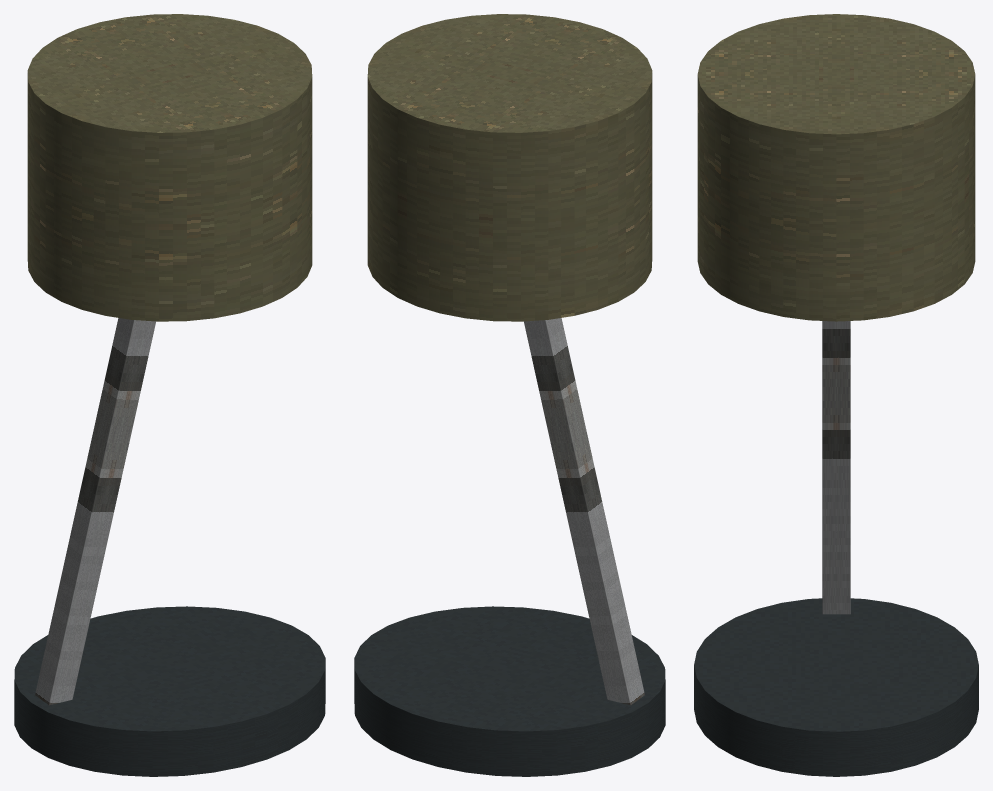
File: dutylamp.glb
3 renders of one model, left to right at view 1: azimuth 30°, elevation 25°; view 2: azimuth 150°, elevation 25°; view 3: azimuth 270°, elevation 25°, orthographic.
Parts seen in each view (by area): view 1: shade, foot, arm; view 2: shade, foot, arm; view 3: shade, foot, arm.
Part boxes in pixels (x1=…): shade: x1=27, y1=14, x2=312, y2=321; foot: x1=14, y1=606, x2=325, y2=776; arm: x1=35, y1=318, x2=155, y2=705; shade: x1=367, y1=14, x2=652, y2=321; foot: x1=354, y1=606, x2=665, y2=776; arm: x1=524, y1=318, x2=644, y2=705; shade: x1=697, y1=14, x2=975, y2=321; foot: x1=694, y1=598, x2=978, y2=776; arm: x1=822, y1=321, x2=850, y2=614.
Bounding box in the file's own units: 0.1872 × 0.4137 × 0.168.
3 materials, 3 textured.
